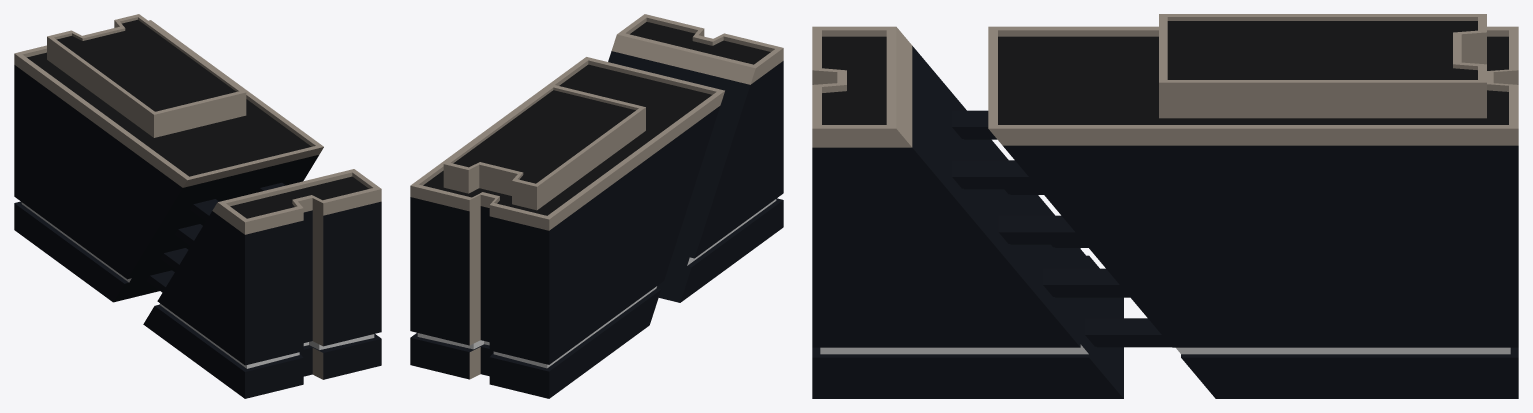
Rendered from buildingK6.obj.
3 views of the same model, side by side, from view 1: azimuth 30°, elevation 25°; view 2: azimuth 150°, elevation 25°; view 3: azimuth 270°, elevation 25° (orthographic). The views are drawn at different scales.
Visible parts, largest first — view 1: Cube.022_Cube.019; view 2: Cube.022_Cube.019; view 3: Cube.022_Cube.019.
Boxes of the visible parts, x1=… form: Cube.022_Cube.019: x1=14, y1=14, x2=381, y2=398; Cube.022_Cube.019: x1=410, y1=14, x2=783, y2=398; Cube.022_Cube.019: x1=812, y1=14, x2=1518, y2=398.
Size of the model in its own units: 36.96 by 50.56 by 108.
